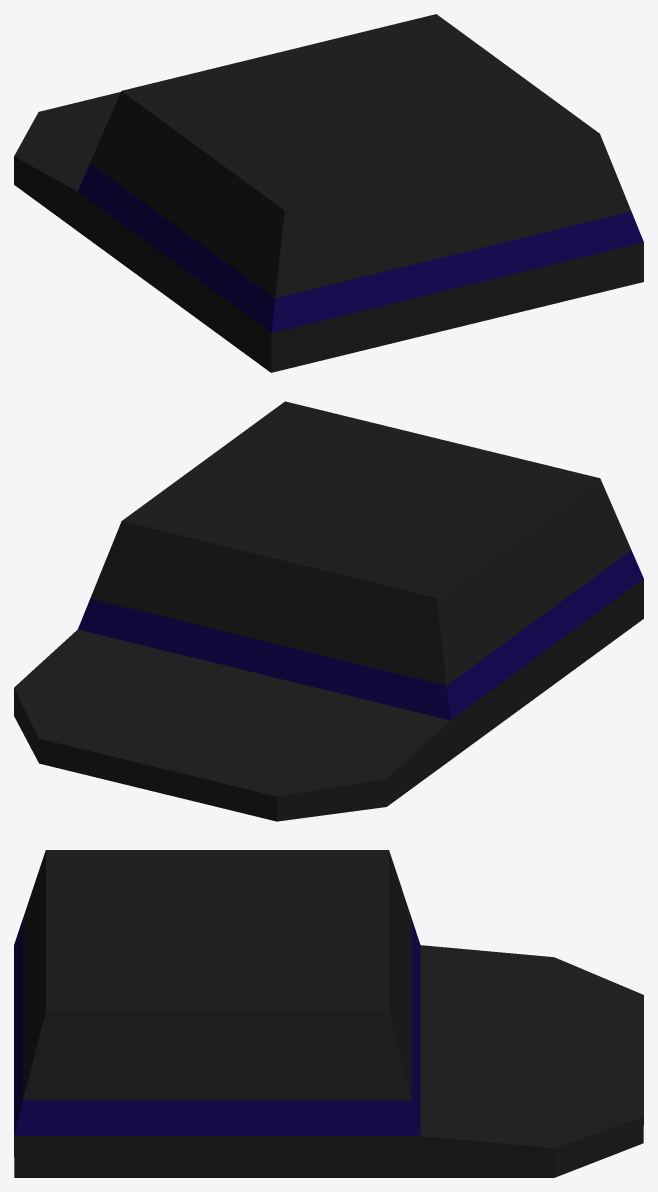
Rendered from policehat.fbx.
3 views of the same model, one above another, from view 1: azimuth 30°, elevation 25°; view 2: azimuth 150°, elevation 25°; view 3: azimuth 270°, elevation 25° (orthographic). The views are drawn at different scales.
Visible parts, largest first — view 1: Cube.007; view 2: Cube.007; view 3: Cube.007.
Boxes of the visible parts, <box> form: Cube.007: <box>14,14,643,372</box>; Cube.007: <box>14,401,643,821</box>; Cube.007: <box>14,850,643,1177</box>.
Size of the model in its own units: 0.5708 by 0.2113 by 0.7957.
